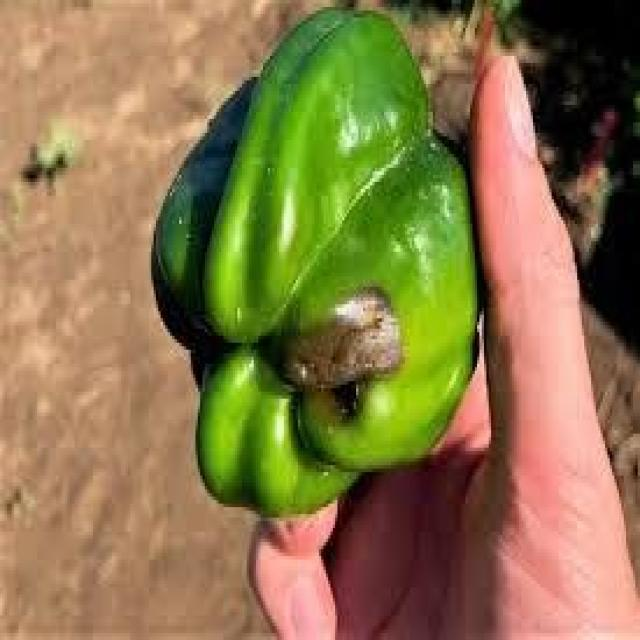Wet Waste: (131, 4, 491, 536)
